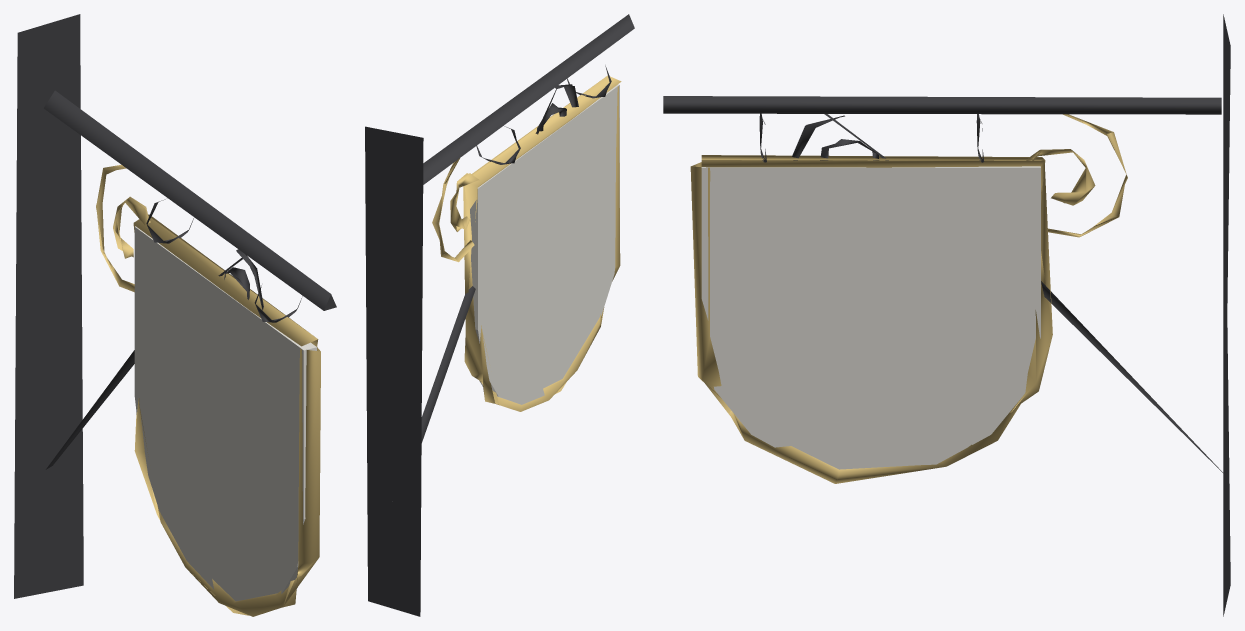
The model's file is sign-bracket-lod1.glb.
The picture shows the model from 3 angles, left to right: view 1: azimuth 30°, elevation 25°; view 2: azimuth 150°, elevation 25°; view 3: azimuth 270°, elevation 25°; orthographic projection. The views are drawn at different scales.
Visible parts, largest first — view 1: sign-bracket.001; view 2: sign-bracket.001; view 3: sign-bracket.001.
Part boxes in pixels (box(x1,y1,x2,y2)): sign-bracket.001: box(14, 14, 336, 616); sign-bracket.001: box(365, 14, 634, 616); sign-bracket.001: box(663, 14, 1230, 616).
Size of the model in its own units: 0.14 by 1.15 by 1.04.
